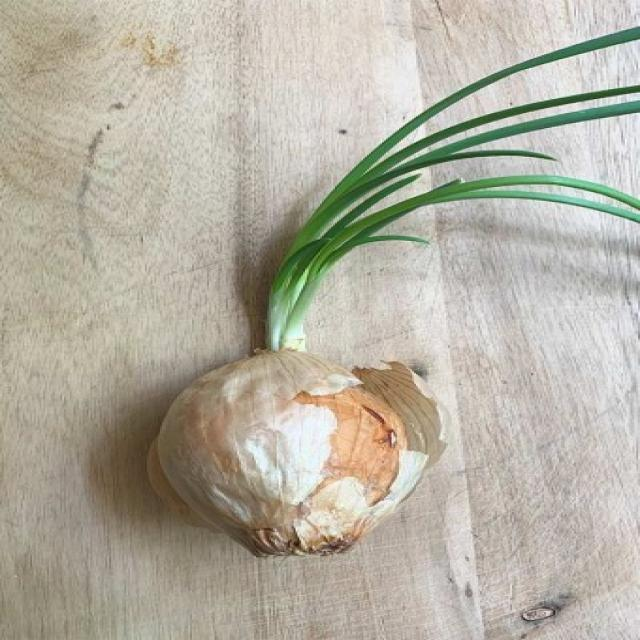onion: (141, 326, 524, 574)
